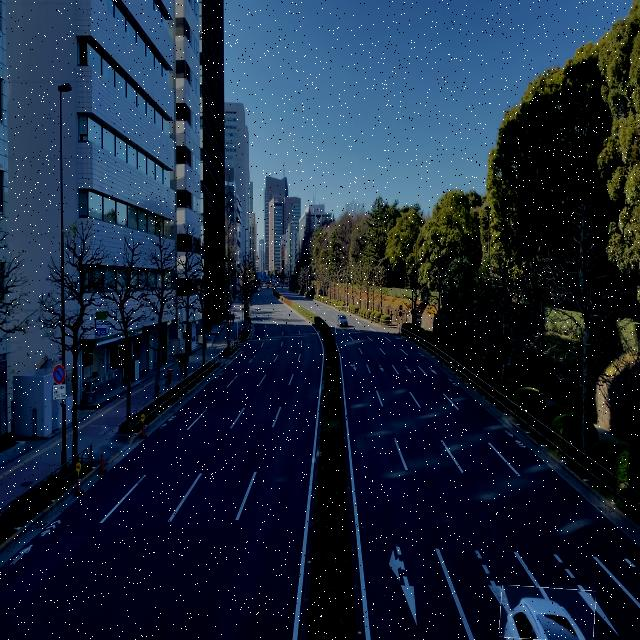Car: (500, 586, 595, 640), (335, 306, 349, 333)
